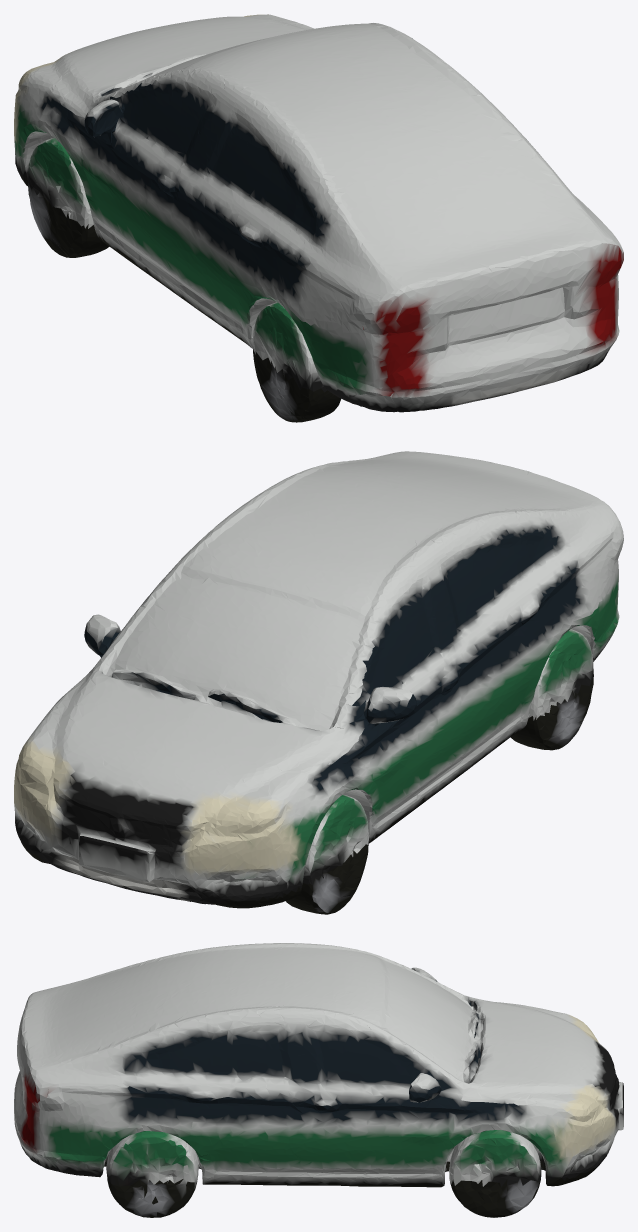
Rendered from police.glb.
3 views of the same model, one above another, from view 1: azimuth 30°, elevation 25°; view 2: azimuth 150°, elevation 25°; view 3: azimuth 270°, elevation 25° (orthographic). The views are drawn at different scales.
Visible parts, largest first — view 1: body, wheel_1, wheel_0; view 2: body, wheel_0, wheel_1; view 3: body, wheel_2, wheel_3.
Boxes of the visible parts, x1,y1,x2,y2 form: body: (14,14,623,412); wheel_1: (253,349,340,422); wheel_0: (17,170,109,257); body: (14,451,623,908); wheel_0: (234,843,368,914); wheel_1: (510,676,593,750); body: (14,943,623,1217); wheel_2: (446,1160,601,1217); wheel_3: (107,1179,195,1217).
Bounding box in the file's own units: 98.52 × 72.46 × 208.
